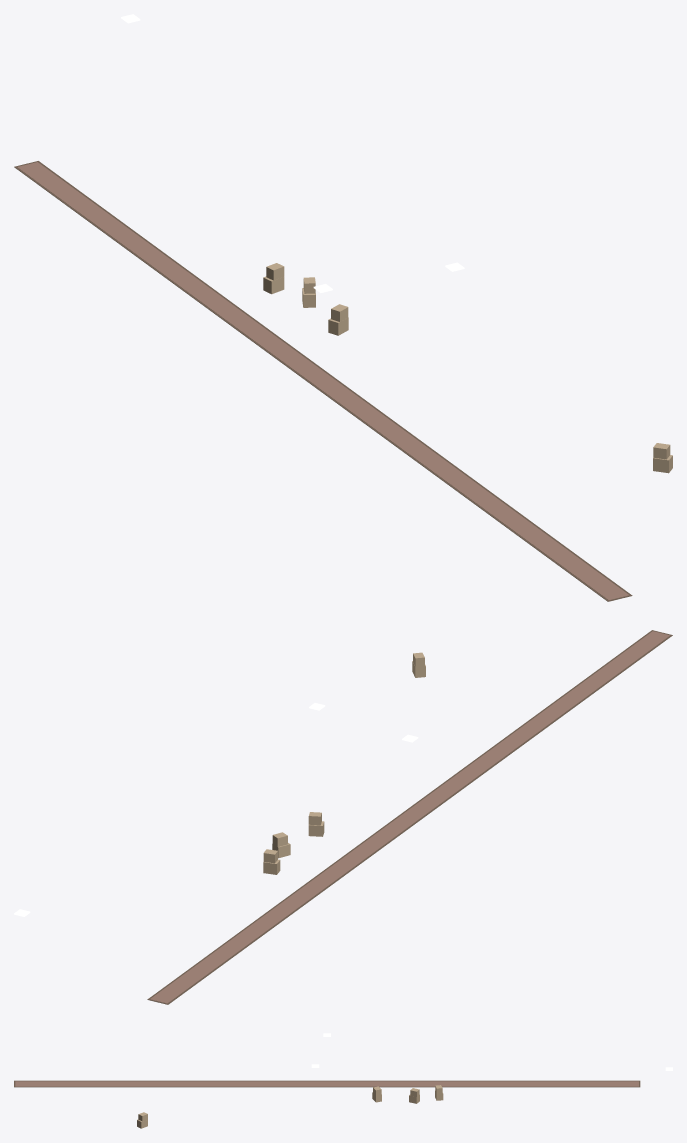
Rendered from fine-s0.glb.
The picture shows the model from 3 angles, top to bottom: view 1: azimuth 30°, elevation 25°; view 2: azimuth 150°, elevation 25°; view 3: azimuth 270°, elevation 25°; orthographic projection. The views are drawn at different scales.
Parts seen in each view (by area): view 1: soft-s0; view 2: soft-s0; view 3: soft-s0.
Part boxes in pixels (x1,y1,x2,y2): soft-s0: (14,161,632,601); soft-s0: (147,630,672,1004); soft-s0: (14,1080,640,1087).
Bounding box in the file's own units: 7.57 × 3.65 × 44.11.
